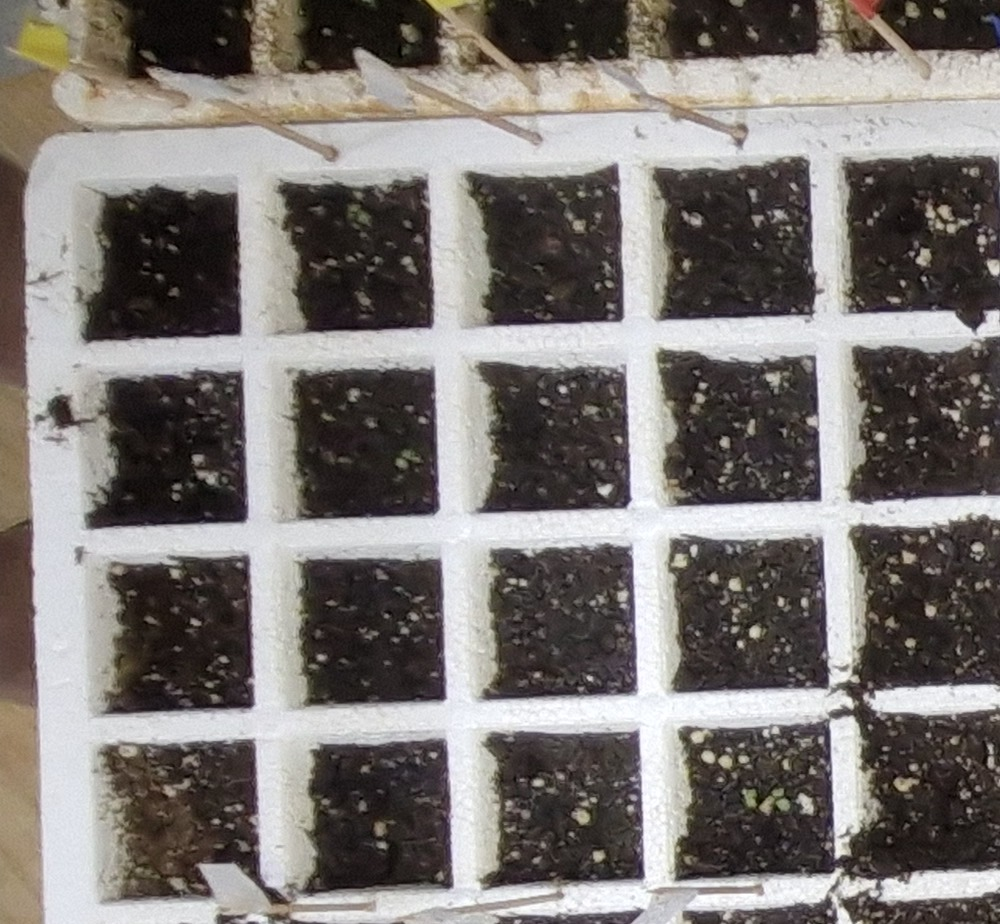Folha: (776, 799, 791, 810), (746, 796, 757, 807), (772, 787, 785, 796)
Germinacao: (771, 788, 791, 811), (746, 789, 757, 806)
